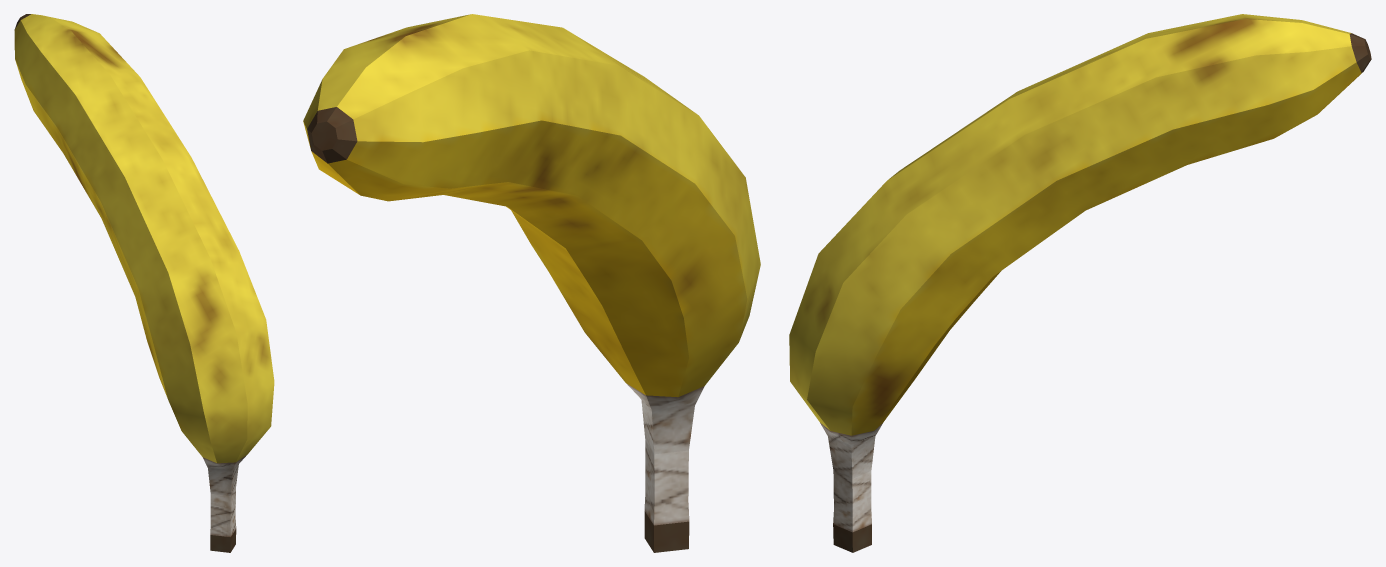
File: WeaponGorilla.fbx
3 renders of one model, left to right at view 1: azimuth 30°, elevation 25°; view 2: azimuth 150°, elevation 25°; view 3: azimuth 270°, elevation 25°, orthographic. The views are drawn at different scales.
Visible parts, largest first — view 1: WeaponGorilla; view 2: WeaponGorilla; view 3: WeaponGorilla.
Boxes of the visible parts, x1,y1,x2,y2 form: WeaponGorilla: (14,14,274,552); WeaponGorilla: (303,14,760,552); WeaponGorilla: (789,14,1371,552).
Bounding box in the file's own units: 26.44 × 94.57 × 94.9.
1 material, 1 textured.
